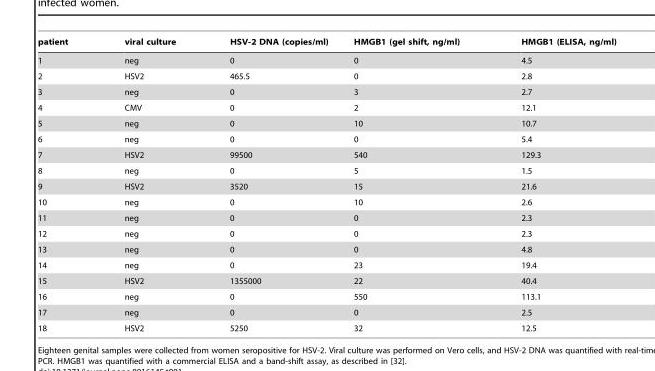table: (37, 37, 615, 332)
table column: (340, 37, 489, 332), (202, 37, 340, 332), (489, 37, 615, 332), (95, 37, 202, 332), (37, 37, 95, 332)
table column header: (37, 37, 615, 50)
table row: (37, 50, 615, 68), (37, 83, 615, 99), (37, 99, 615, 115), (37, 115, 615, 131), (37, 146, 615, 162), (37, 162, 615, 178), (37, 178, 615, 194), (37, 209, 615, 225), (37, 225, 615, 241), (37, 241, 615, 257), (37, 272, 615, 288), (37, 288, 615, 304), (37, 304, 615, 320), (37, 68, 615, 83), (37, 131, 615, 146), (37, 194, 615, 209), (37, 257, 615, 272), (37, 37, 615, 50), (37, 320, 615, 332)
